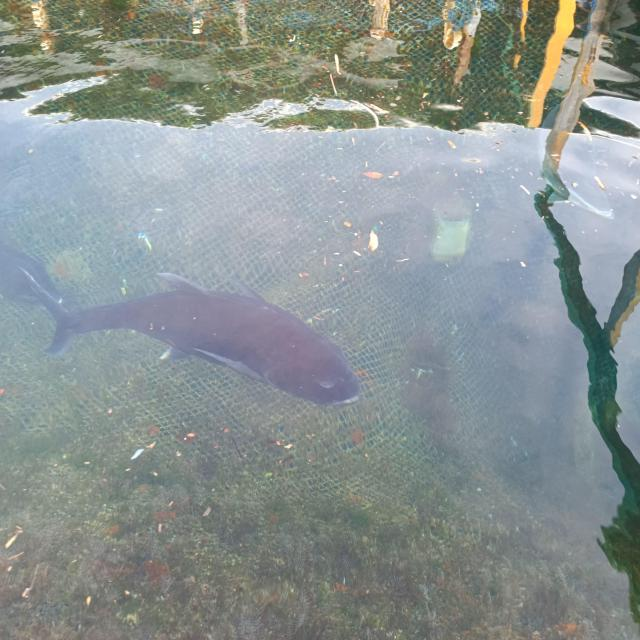ikan: (4, 261, 346, 404)
